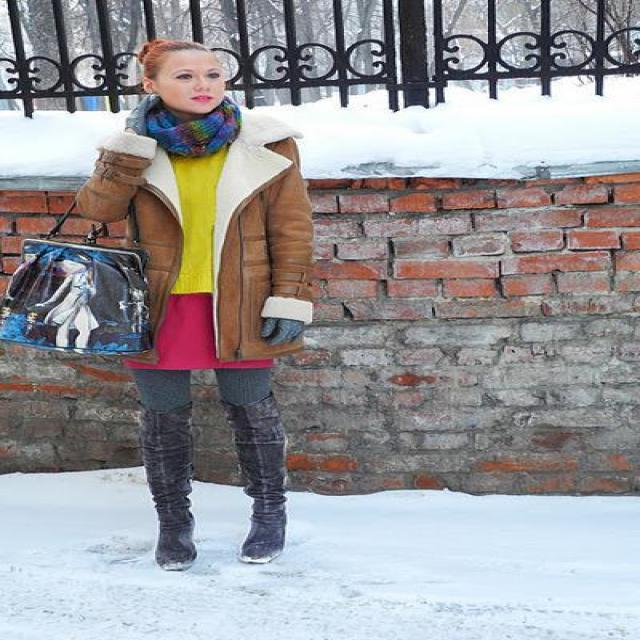bag: (0, 239, 163, 353)
jacket: (70, 120, 352, 344)
shirt: (172, 150, 225, 294)
shoe: (142, 411, 286, 565)
skirt: (107, 292, 283, 381)
